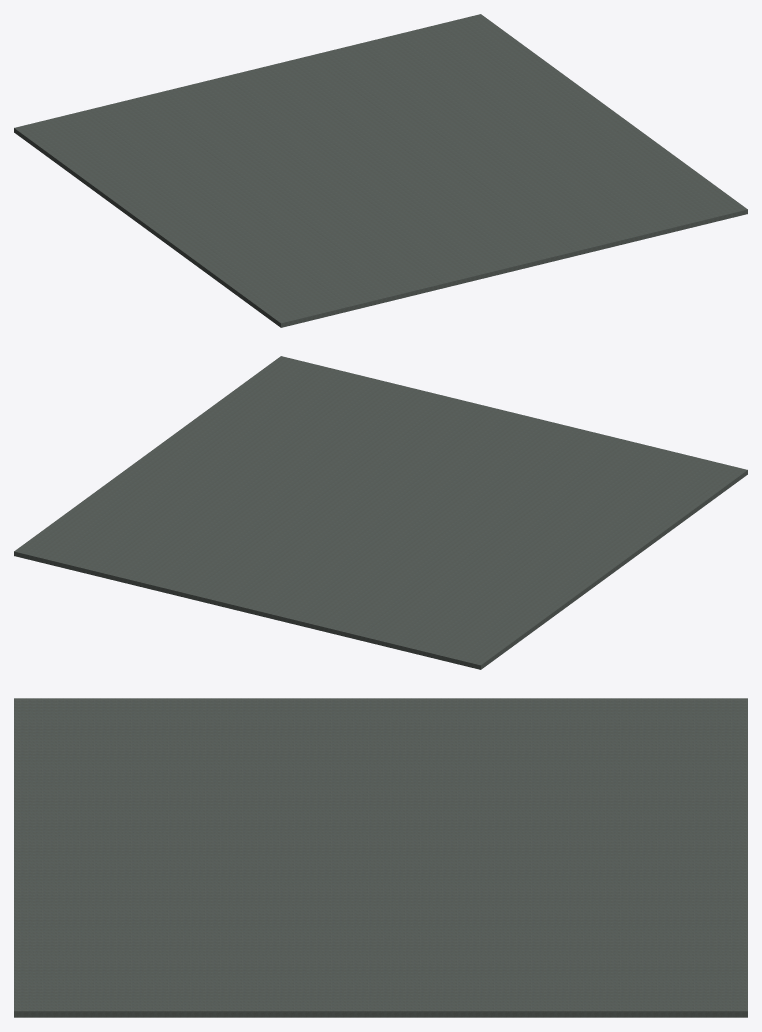
File: Home.obj
3 views of the same model, one above another, from view 1: azimuth 30°, elevation 25°; view 2: azimuth 150°, elevation 25°; view 3: azimuth 270°, elevation 25° (orthographic). The views are drawn at different scales.
Visible parts, largest first — view 1: Cube; view 2: Cube; view 3: Cube.
Boxes of the visible parts, box(x1,y1,x2,y2) form: Cube: box(14, 14, 747, 327); Cube: box(14, 356, 747, 669); Cube: box(14, 698, 747, 1017).
Bounding box in the file's own units: 108 × 1 × 107.
